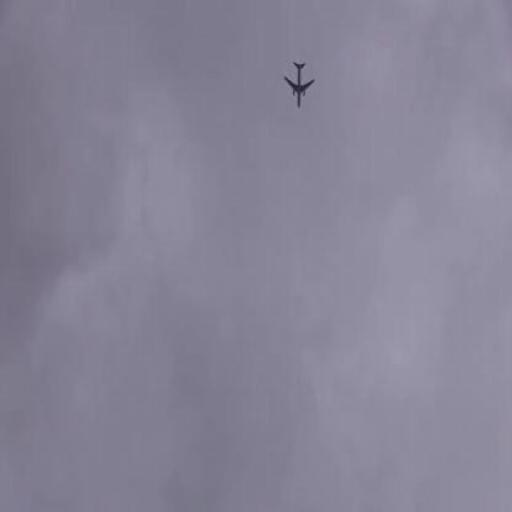aircraft: (282, 56, 316, 110)
